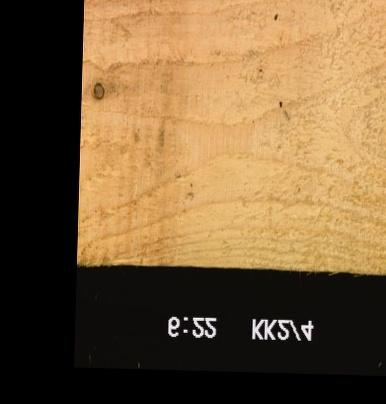dry_knot: (89, 80, 104, 100)
